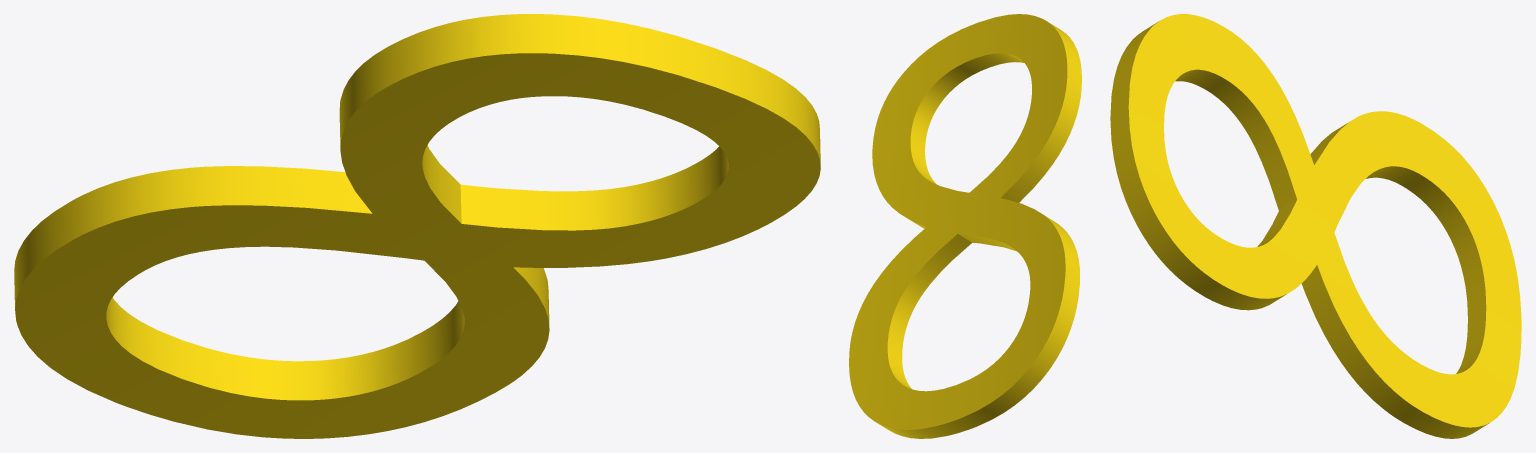
Rendered from Number_8.gltf.
3 views of the same model, side by side, from view 1: azimuth 30°, elevation 25°; view 2: azimuth 150°, elevation 25°; view 3: azimuth 270°, elevation 25° (orthographic). The views are drawn at different scales.
Visible parts, largest first — view 1: Sub_5_Cell_2_2_Number_8; view 2: Sub_5_Cell_2_2_Number_8; view 3: Sub_5_Cell_2_2_Number_8.
Boxes of the visible parts, <box> form: Sub_5_Cell_2_2_Number_8: <box>14,14,820,438</box>; Sub_5_Cell_2_2_Number_8: <box>849,14,1081,438</box>; Sub_5_Cell_2_2_Number_8: <box>1110,14,1521,438</box>.
Size of the model in its own units: 0.0196 by 0.0202 by 0.0193.
